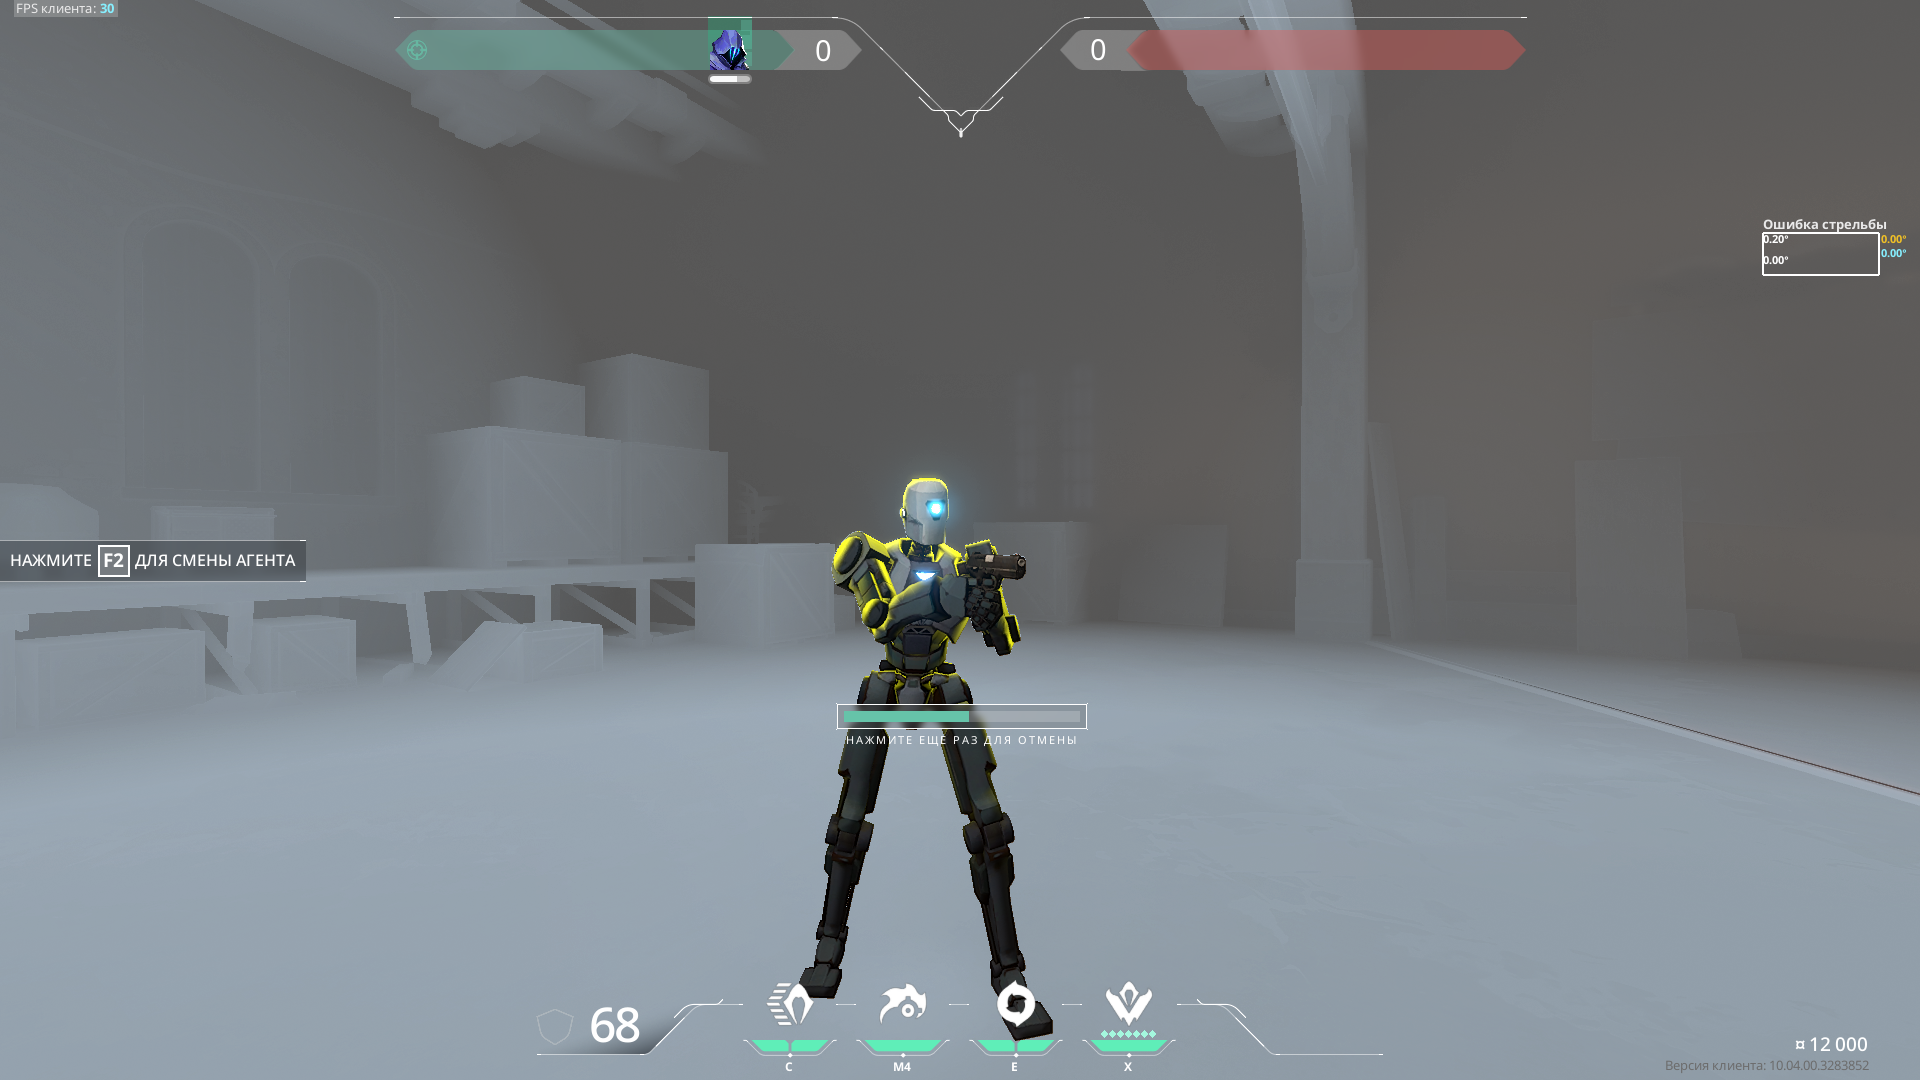head: (900, 478, 949, 545)
